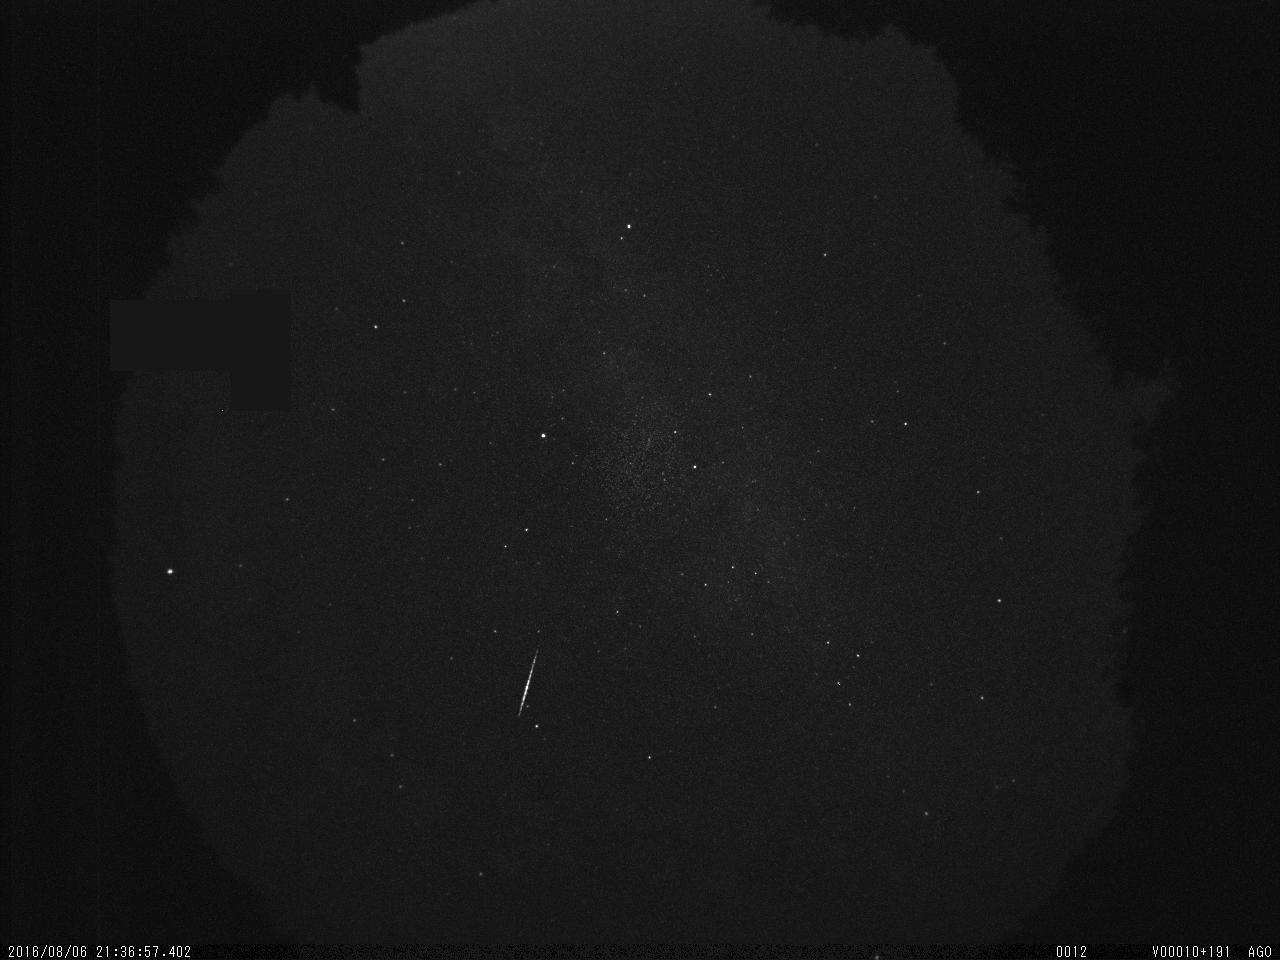meteor: (504, 644, 558, 739)
